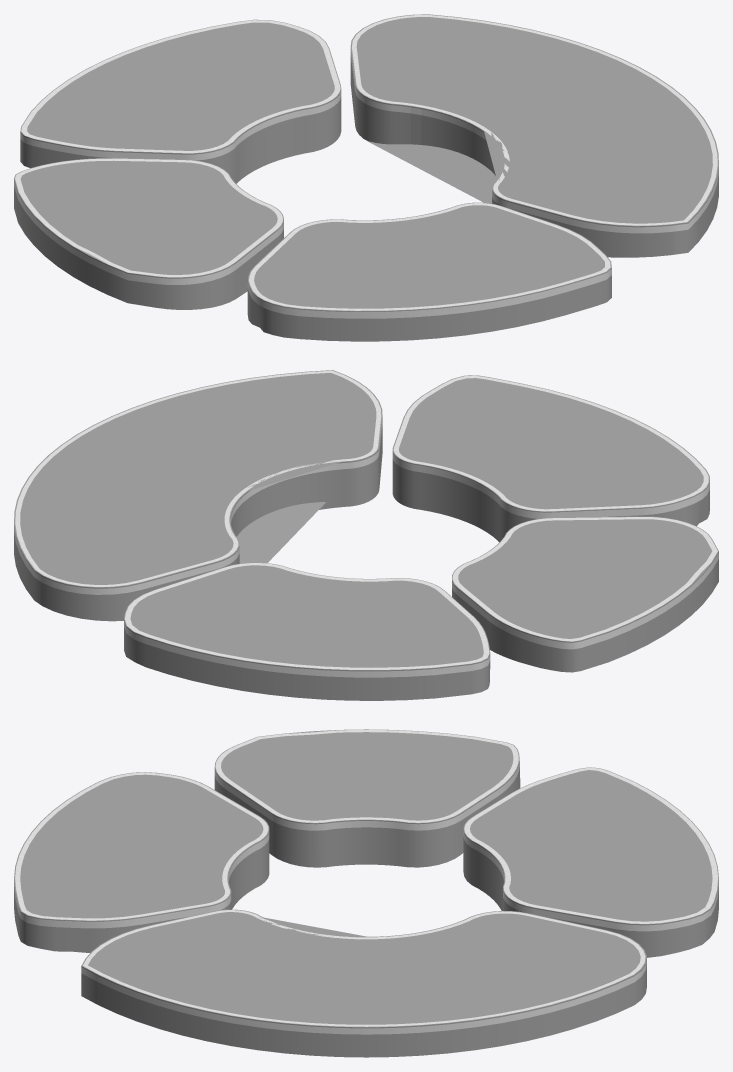
Rendered from Test_floorl.fbx.
3 views of the same model, one above another, from view 1: azimuth 30°, elevation 25°; view 2: azimuth 150°, elevation 25°; view 3: azimuth 270°, elevation 25° (orthographic).
Visible parts, largest first — view 1: SmartCombine_4; view 2: SmartCombine_4; view 3: SmartCombine_4.
Boxes of the visible parts, bbox=[...] form: SmartCombine_4: bbox=[14, 14, 718, 341]; SmartCombine_4: bbox=[14, 370, 718, 700]; SmartCombine_4: bbox=[14, 729, 718, 1057].
Size of the model in its own units: 1346 by 93.87 by 1346.
